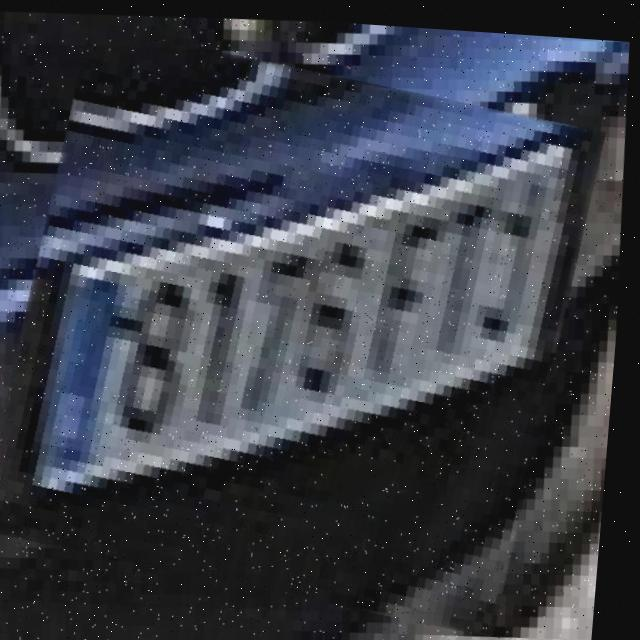LicensePlate: (0, 23, 608, 629)
